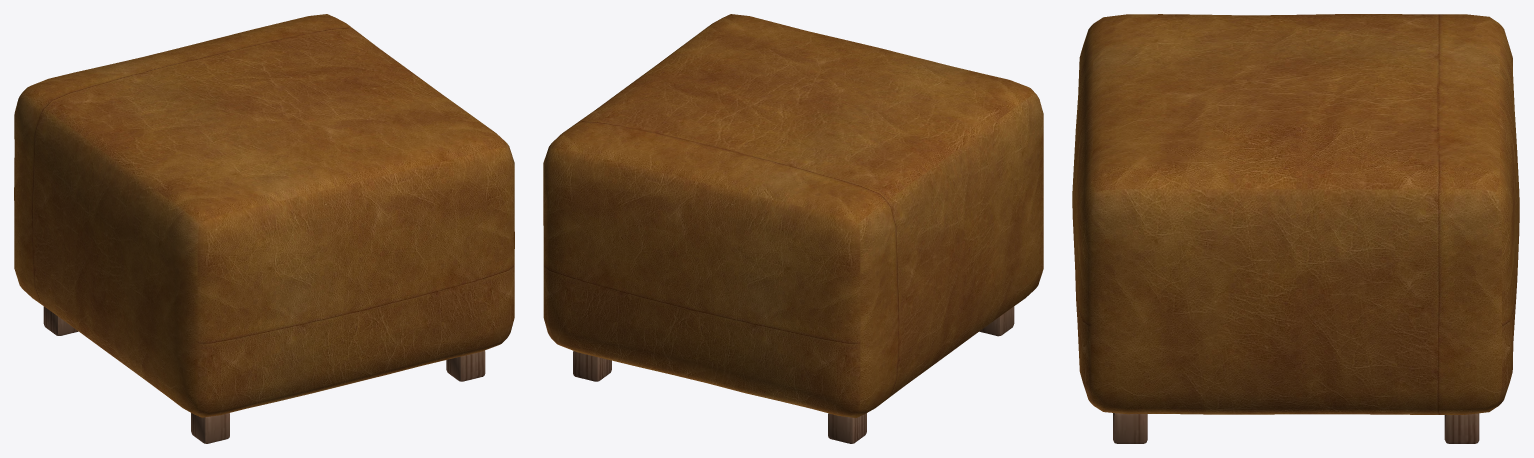
The model's file is puf_cuadrado.glb.
The picture shows the model from 3 angles, left to right: view 1: azimuth 30°, elevation 25°; view 2: azimuth 150°, elevation 25°; view 3: azimuth 270°, elevation 25°; orthographic projection. The views are drawn at different scales.
Visible parts, largest first — view 1: puf_cuadrado; view 2: puf_cuadrado; view 3: puf_cuadrado.
Part boxes in pixels (bbox=[...]): puf_cuadrado: bbox=[14, 14, 514, 443]; puf_cuadrado: bbox=[543, 14, 1043, 443]; puf_cuadrado: bbox=[1072, 14, 1519, 443].
Bounding box in the file's own units: 0.62 × 0.4402 × 0.6203.
2 materials, 2 textured.
